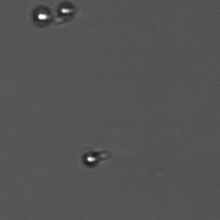Living Cell: (76, 149, 106, 167), (31, 3, 50, 27), (56, 2, 76, 23)
